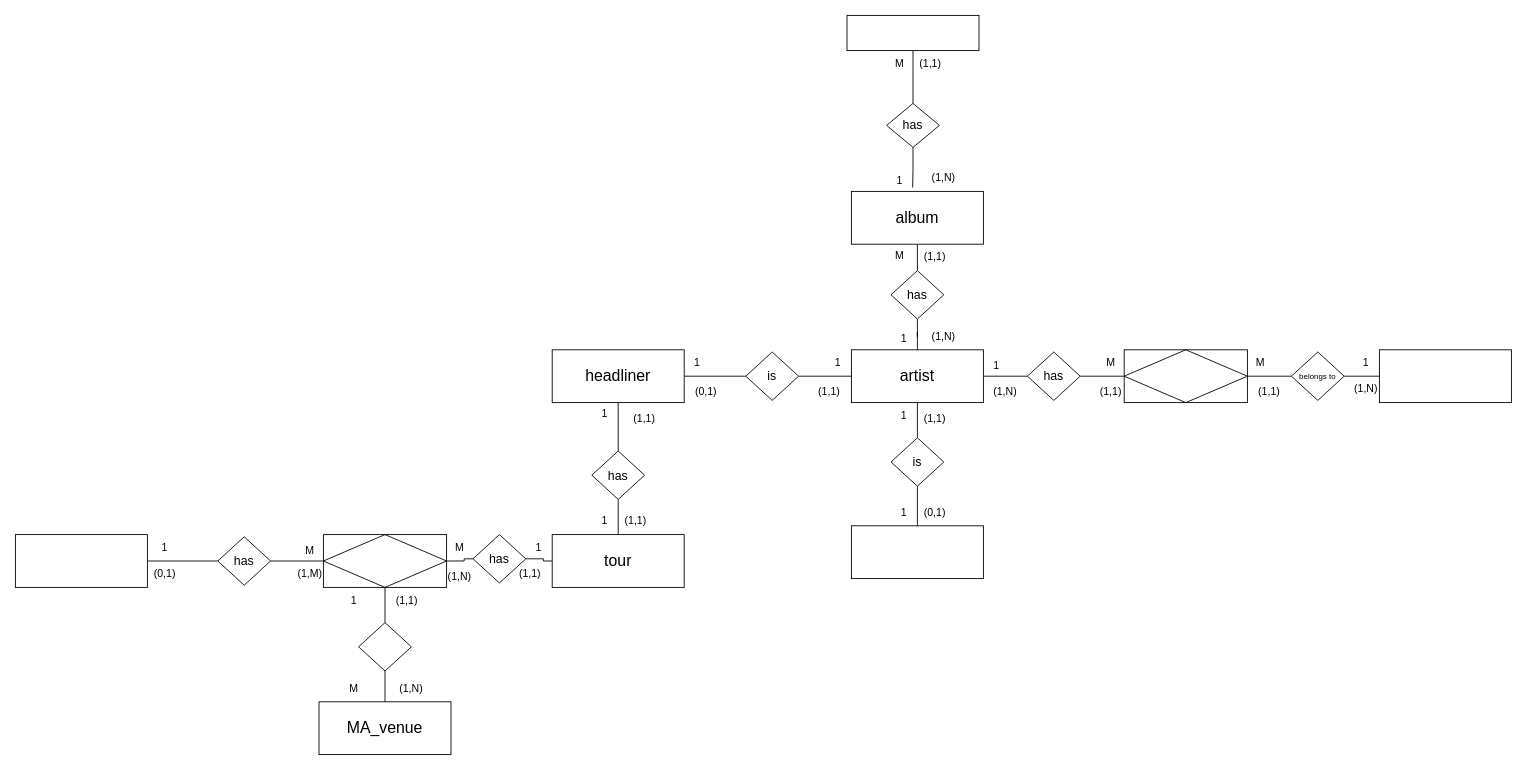
Some shapes in this 1527 by 770 pixel diagram are drawn without their labels. The centre of each missing label's shape, as x and y in pixels:
"artist_genre" goes at point 1185,376.
"customer" goes at point 81,560.
"genre" goes at point 1445,376.
"opener" goes at point 917,552.
"single" goes at point 912,33.
"tour_attendance" goes at point 385,560.
"will attend at" goes at point 384,646.
